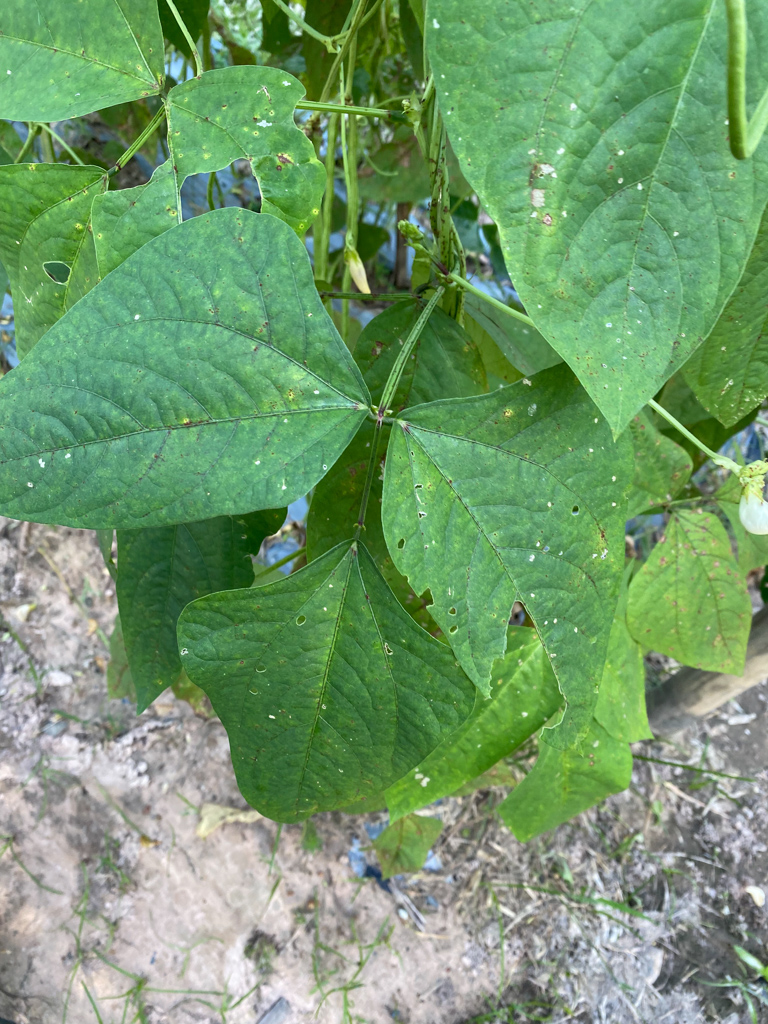Alternaria brassicicola: (177, 87, 288, 168), (166, 376, 317, 424), (68, 217, 110, 247), (292, 200, 322, 235), (163, 201, 183, 218), (496, 403, 513, 423), (27, 163, 40, 173)
Rust: (636, 511, 752, 673)
